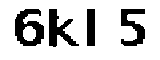5: (115, 7, 153, 54)
6: (11, 6, 45, 50)
I: (85, 5, 108, 54)
k: (46, 4, 84, 53)
